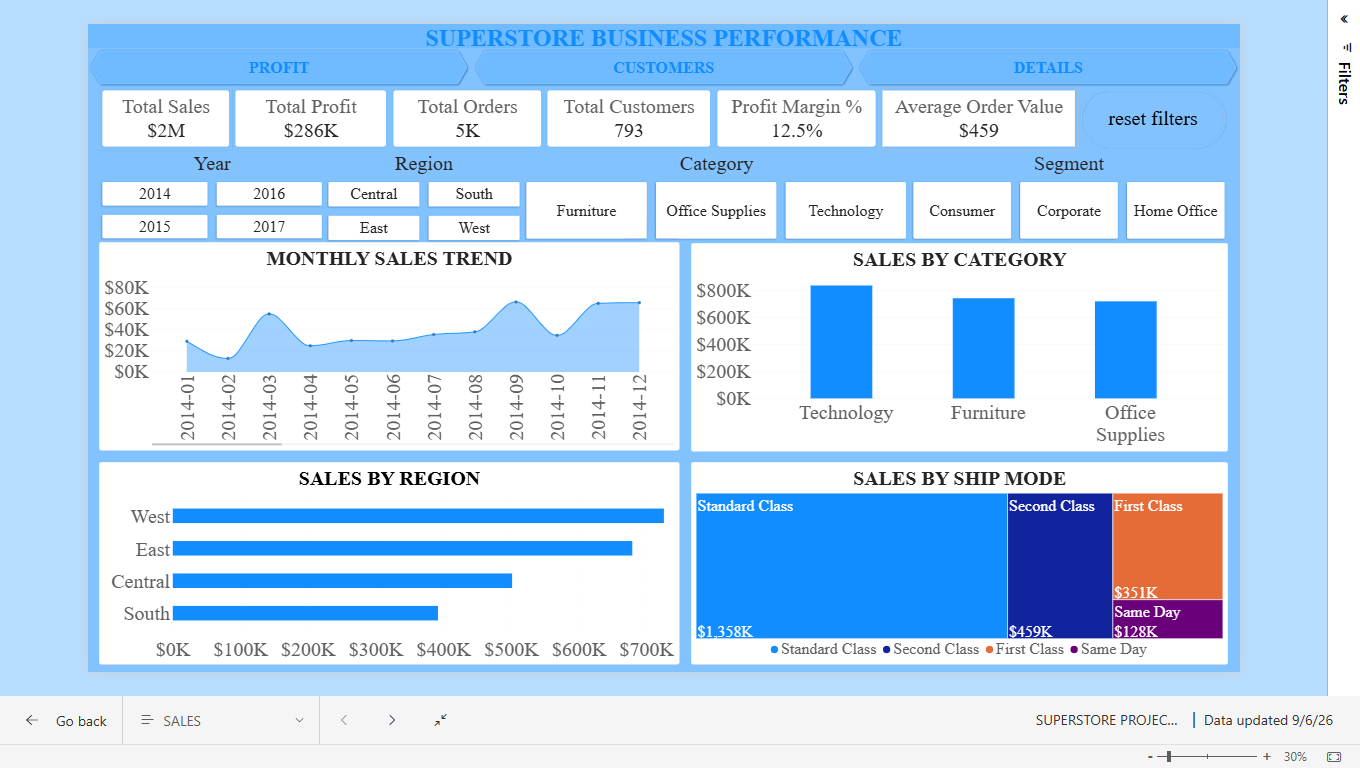

This screenshot's page, from the dashboard's own definition file:
{"tool":"powerbi","page":{"name":"SALES","canvas":[3840,2160],"ordinal":0},"visuals":[{"type":"cardVisual","fields":{"Data":["Date.Total Orders"]},"box":[1005,210,515,210],"z":0},{"type":"cardVisual","fields":{"Data":["Date.Total Customers"]},"box":[1520,210,565,210],"z":1000},{"type":"cardVisual","fields":{"Data":["Date.Average Order Value"]},"box":[2635,210,665,210],"z":2000},{"type":"lineChart","title":"MONTHLY SALES TREND","fields":{"Category":["Date.Year Month"],"Y":["Date.Total Sales"]},"box":[35,725,1935,695],"z":3000},{"type":"clusteredColumnChart","title":"SALES BY CATEGORY","fields":{"Category":["Sample - Superstore.Category"],"Y":["Date.Total Sales"]},"box":[2010,730,1790,695],"z":4000},{"type":"clusteredBarChart","title":"SALES BY REGION","fields":{"Category":["Sample - Superstore.Region"],"Y":["Date.Total Sales"]},"box":[35,1460,1935,675],"z":5000},{"type":"advancedSlicerVisual","fields":{"Values":["Date.Year"]},"box":[35,425,755,300],"z":6000},{"type":"advancedSlicerVisual","fields":{"Values":["Sample - Superstore.Region"]},"box":[790,425,660,305],"z":7000},{"type":"advancedSlicerVisual","fields":{"Values":["Sample - Superstore.Category"]},"box":[1450,425,1290,300],"z":8000},{"type":"advancedSlicerVisual","fields":{"Values":["Sample - Superstore.Segment"]},"box":[2740,425,1060,300],"z":9000},{"type":"textbox","title":"SUPERSTORE BUSINESS PERFORMANCE","box":[0,0,3840,80],"z":10000},{"type":"cardVisual","fields":{"Data":["Date.Total Sales"]},"box":[35,210,445,210],"z":11000},{"type":"cardVisual","fields":{"Data":["Date.Profit Margin %"]},"box":[2085,210,550,210],"z":12000},{"type":"cardVisual","title":"Total Profit","fields":{"Data":["Date.Total Profit"]},"box":[480,210,525,210],"z":13000},{"type":"pageNavigator","box":[0,80,3840,130],"z":14000},{"type":"actionButton","box":[3300,210,500,210],"z":15000},{"type":"treemap","title":"SALES BY SHIP MODE","fields":{"Group":["Sample - Superstore.Ship Mode"],"Values":["Date.Total Sales"]},"box":[2010,1460,1790,675],"z":16000}]}

Visuals, with their boxes on the page's 3840x2160 design canvas (x1, y1, x2, y2). These are canvas units, not pixel positions in the 1360x768 screenshot, which may show the page scaled, cropped or inside an application window:
cardVisual - Date.Total Orders: l=1005, t=210, r=1520, b=420
cardVisual - Date.Total Customers: l=1520, t=210, r=2085, b=420
cardVisual - Date.Average Order Value: l=2635, t=210, r=3300, b=420
"MONTHLY SALES TREND" lineChart: l=35, t=725, r=1970, b=1420
"SALES BY CATEGORY" clusteredColumnChart: l=2010, t=730, r=3800, b=1425
"SALES BY REGION" clusteredBarChart: l=35, t=1460, r=1970, b=2135
advancedSlicerVisual - Date.Year: l=35, t=425, r=790, b=725
advancedSlicerVisual - Sample - Superstore.Region: l=790, t=425, r=1450, b=730
advancedSlicerVisual - Sample - Superstore.Category: l=1450, t=425, r=2740, b=725
advancedSlicerVisual - Sample - Superstore.Segment: l=2740, t=425, r=3800, b=725
"SUPERSTORE BUSINESS PERFORMANCE" textbox: l=0, t=0, r=3840, b=80
cardVisual - Date.Total Sales: l=35, t=210, r=480, b=420
cardVisual - Date.Profit Margin %: l=2085, t=210, r=2635, b=420
"Total Profit" cardVisual: l=480, t=210, r=1005, b=420
pageNavigator: l=0, t=80, r=3840, b=210
actionButton: l=3300, t=210, r=3800, b=420
"SALES BY SHIP MODE" treemap: l=2010, t=1460, r=3800, b=2135
